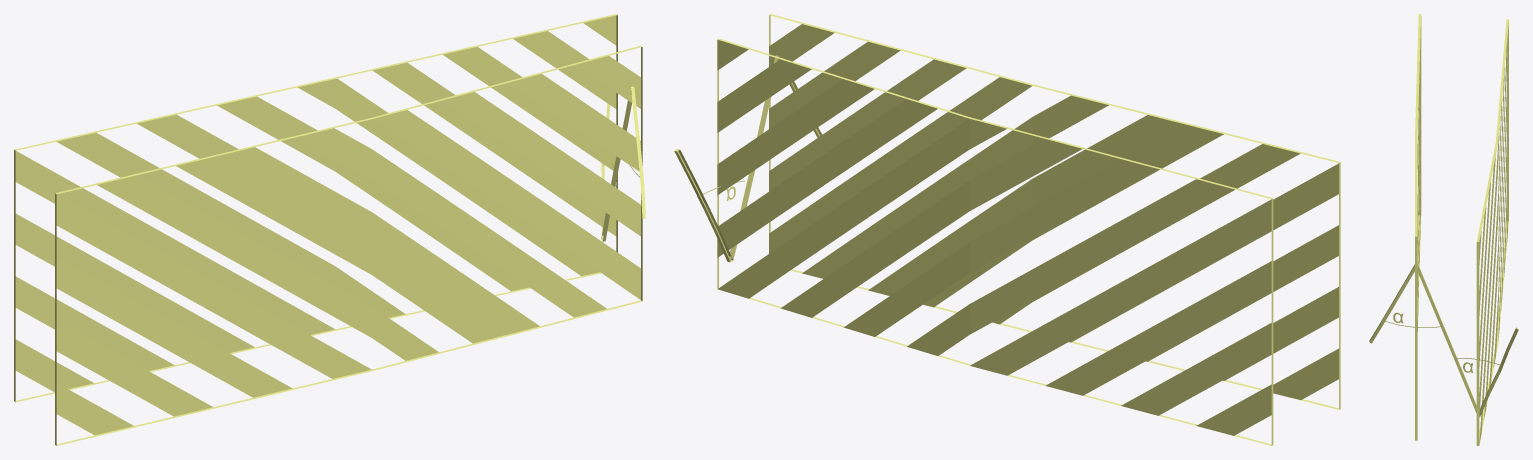
The model's file is angle.glb.
3 renders of one model, left to right at view 1: azimuth 30°, elevation 25°; view 2: azimuth 150°, elevation 25°; view 3: azimuth 270°, elevation 25°, orthographic. The views are drawn at different scales.
Visible parts, largest first — view 1: Plane.007, Plane.008, NurbsPath.009; view 2: Plane.008, Plane.007, NurbsPath.009; view 3: Plane.008, Plane.007, NurbsPath.009.
Part boxes in pixels (x1,y1,x2,y2): Plane.007: (55,45,642,445); Plane.008: (14,14,617,402); NurbsPath.009: (601,86,645,241); Plane.008: (717,38,1273,445); Plane.007: (769,14,1340,409); NurbsPath.009: (674,55,822,262); Plane.008: (1476,19,1508,445); Plane.007: (1415,14,1421,440); NurbsPath.009: (1369,264,1518,416).
Size of the model in its own units: 0.2993 by 0.1197 by 0.0784.
